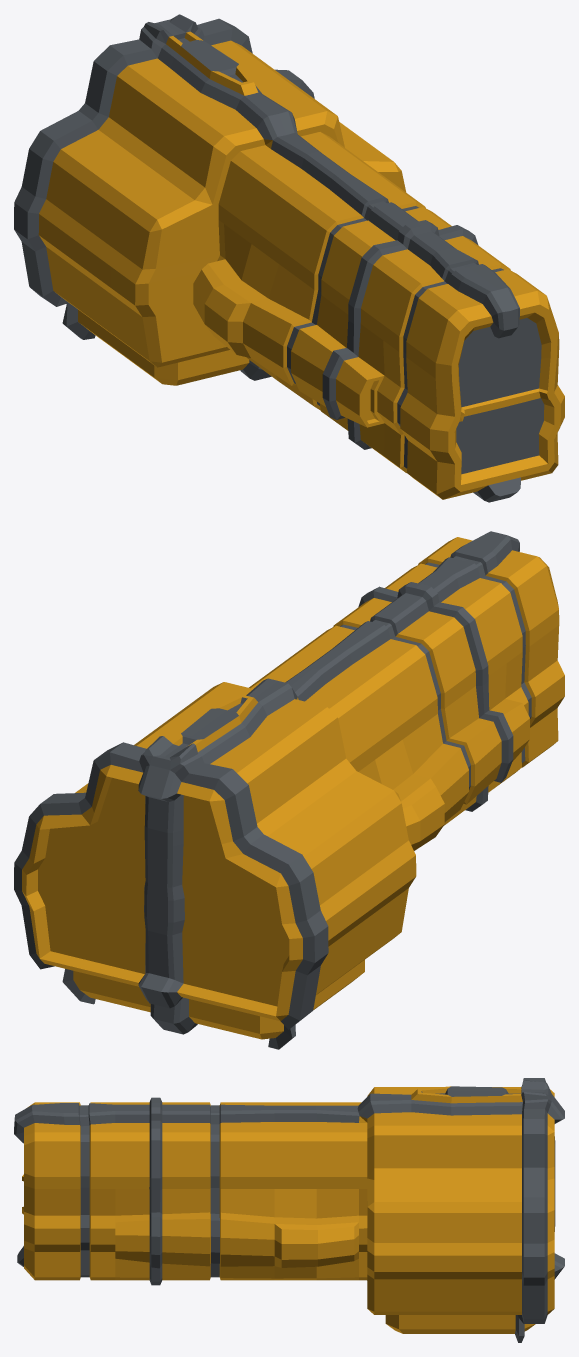
File: Mothership_02_Stern_Yellow.fbx
3 views of the same model, one above another, from view 1: azimuth 30°, elevation 25°; view 2: azimuth 150°, elevation 25°; view 3: azimuth 270°, elevation 25° (orthographic). The views are drawn at different scales.
Parts seen in each view (by area): view 1: Mothership_02_Stern_Yellow; view 2: Mothership_02_Stern_Yellow; view 3: Mothership_02_Stern_Yellow.
Part boxes in pixels (left/top/right/bottom): Mothership_02_Stern_Yellow: left=14, top=14, right=564, bottom=502; Mothership_02_Stern_Yellow: left=14, top=531, right=564, bottom=1049; Mothership_02_Stern_Yellow: left=14, top=1078, right=564, bottom=1342.
Size of the model in its own units: 1233 by 1131 by 2554.
Materials: 3 (3 with a texture image).
